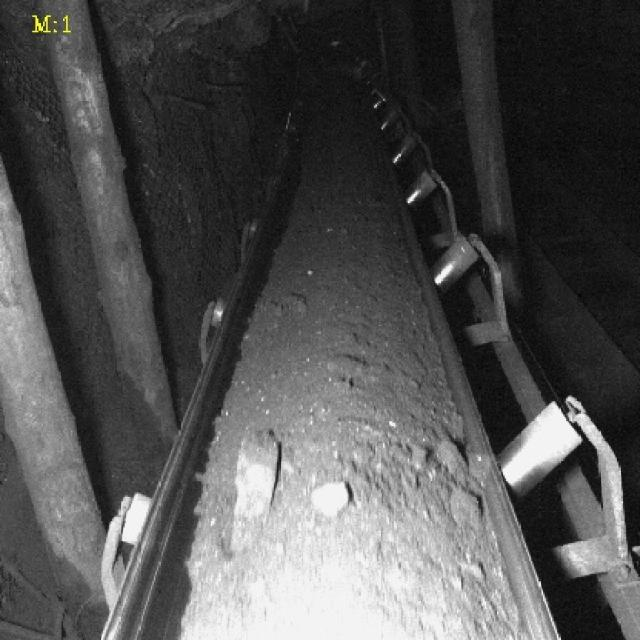large_sized_coal: (238, 434, 277, 526), (306, 478, 348, 517), (449, 489, 483, 531)
